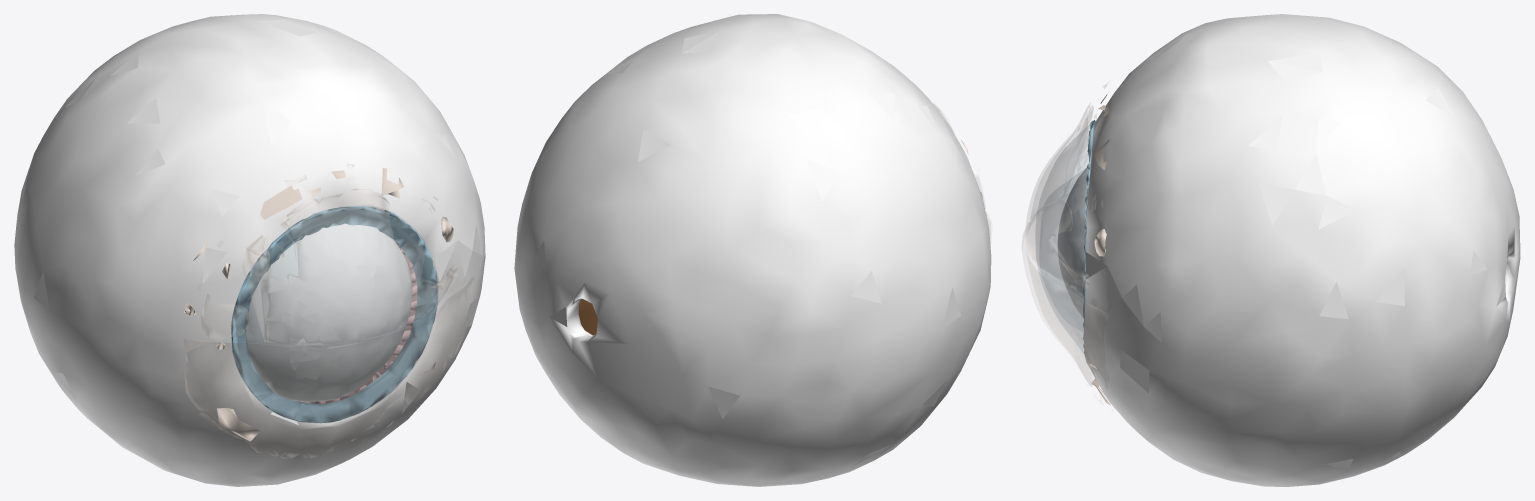
The model's file is 3d-vh-f-eye-r_lod_20.glb.
3 views of the same model, side by side, from view 1: azimuth 30°, elevation 25°; view 2: azimuth 150°, elevation 25°; view 3: azimuth 270°, elevation 25° (orthographic).
Visible parts, largest first — view 1: VH_F_sclera_R, VH_F_cornea_R, VH_F_palpebral_conjunctiva_of_right_lower_eyelid, VH_F_palpebral_conjunctiva_of_right_upper_eyelid, VH_F_aqueous_humor_R, VH_F_corneo_scleral_junction_R, VH_F_bulbar_conjunctiva_R, VH_F_ciliary_muscle_R; view 2: VH_F_sclera_R, VH_F_optic_choroid_R; view 3: VH_F_sclera_R, VH_F_cornea_R, VH_F_palpebral_conjunctiva_of_right_upper_eyelid, VH_F_palpebral_conjunctiva_of_right_lower_eyelid, VH_F_aqueous_humor_R, VH_F_bulbar_conjunctiva_R, VH_F_corneo_scleral_junction_R.
Part boxes in pixels (x1,y1,x2,y2): VH_F_sclera_R: [14, 14, 485, 486]; VH_F_cornea_R: [233, 208, 437, 422]; VH_F_palpebral_conjunctiva_of_right_lower_eyelid: [184, 276, 474, 457]; VH_F_palpebral_conjunctiva_of_right_upper_eyelid: [197, 164, 470, 344]; VH_F_aqueous_humor_R: [246, 223, 412, 401]; VH_F_corneo_scleral_junction_R: [231, 206, 438, 422]; VH_F_bulbar_conjunctiva_R: [184, 168, 453, 441]; VH_F_ciliary_muscle_R: [297, 241, 417, 403]; VH_F_sclera_R: [514, 14, 991, 486]; VH_F_optic_choroid_R: [578, 298, 597, 335]; VH_F_sclera_R: [1084, 14, 1520, 486]; VH_F_cornea_R: [1036, 122, 1093, 353]; VH_F_palpebral_conjunctiva_of_right_upper_eyelid: [1025, 81, 1109, 311]; VH_F_palpebral_conjunctiva_of_right_lower_eyelid: [1022, 220, 1113, 410]; VH_F_aqueous_humor_R: [1057, 168, 1087, 317]; VH_F_bulbar_conjunctiva_R: [1088, 94, 1110, 405]; VH_F_corneo_scleral_junction_R: [1083, 120, 1095, 353].
Size of the model in its own units: 0.0244 by 0.0244 by 0.0257.
